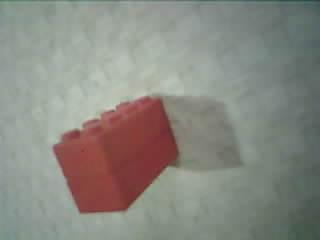lego: (51, 94, 181, 216)
